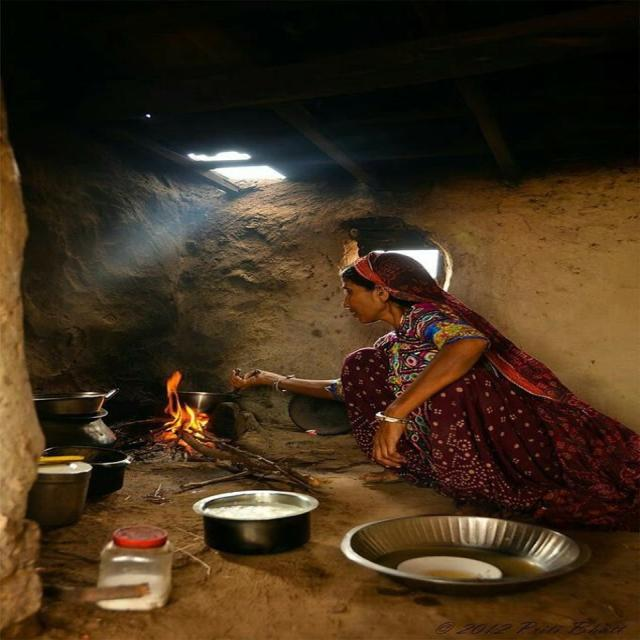fire: (163, 371, 209, 439)
